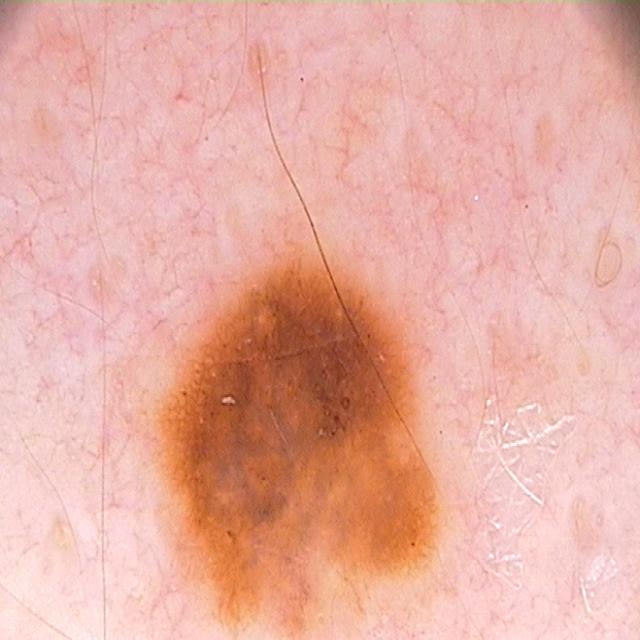Melanoma: (128, 226, 455, 640)
